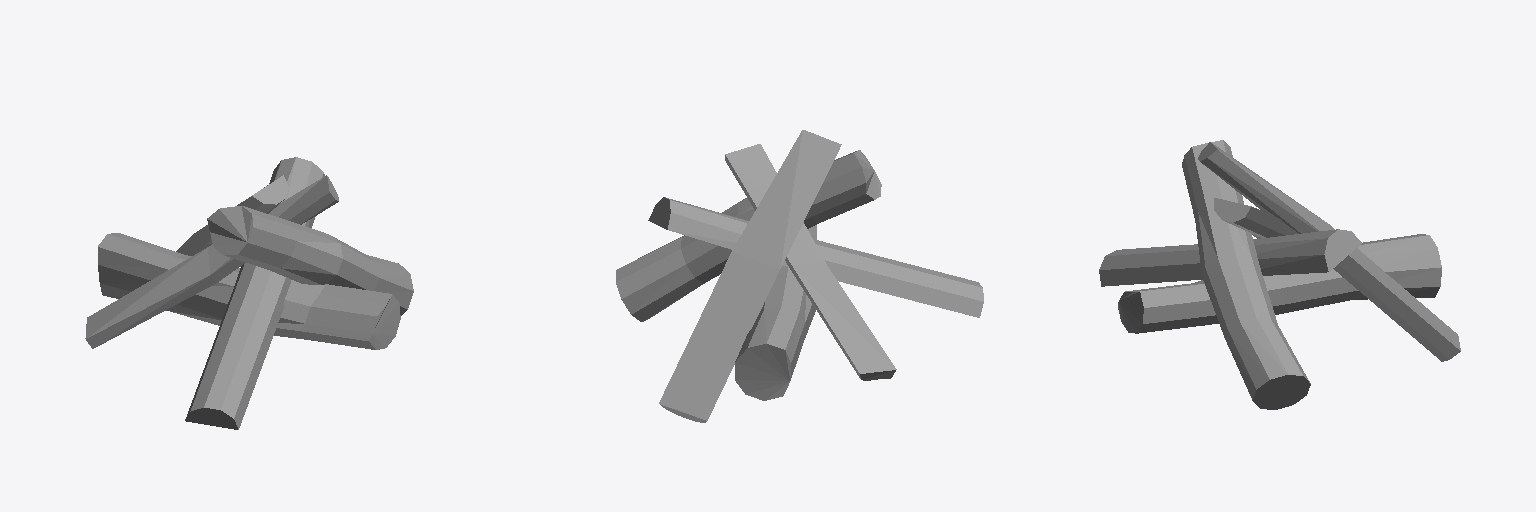
The model's file is bonfire.obj.
3 views of the same model, side by side, from view 1: azimuth 30°, elevation 25°; view 2: azimuth 150°, elevation 25°; view 3: azimuth 270°, elevation 25° (orthographic).
Visible parts, largest first — view 1: Plane; view 2: Plane; view 3: Plane.
Boxes of the visible parts, <box> form: Plane: <box>85,157,413,429</box>; Plane: <box>616,130,983,422</box>; Plane: <box>1099,140,1460,409</box>.
Bounding box in the file's own units: 3.76 × 2.52 × 3.94.